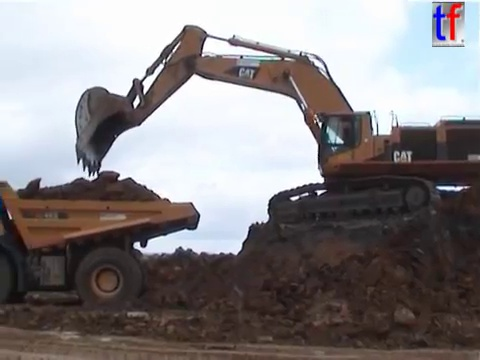excavator: (71, 22, 478, 231)
truck: (1, 179, 203, 314)
